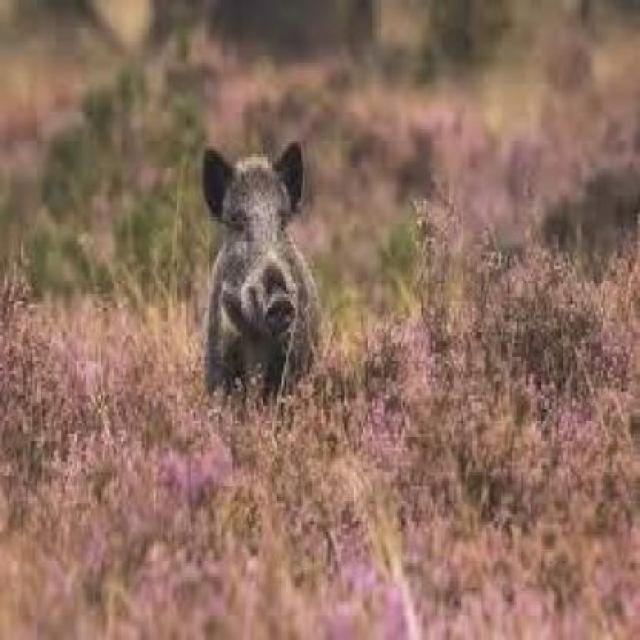wildboar: (194, 133, 326, 409)
